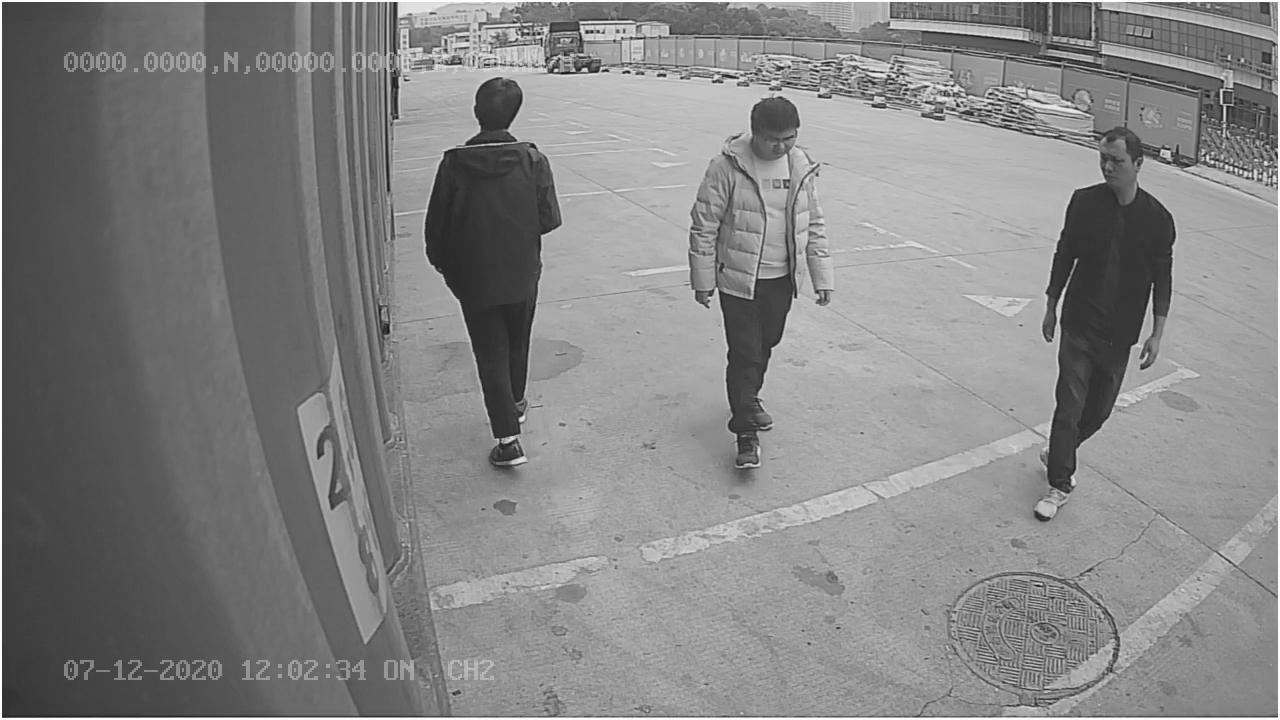person: (1028, 120, 1178, 525), (422, 74, 567, 469), (686, 87, 833, 476)
